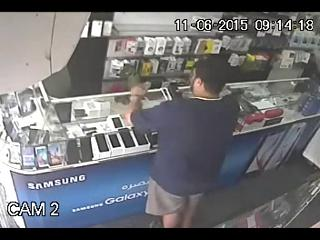Normal: (117, 56, 240, 226)
